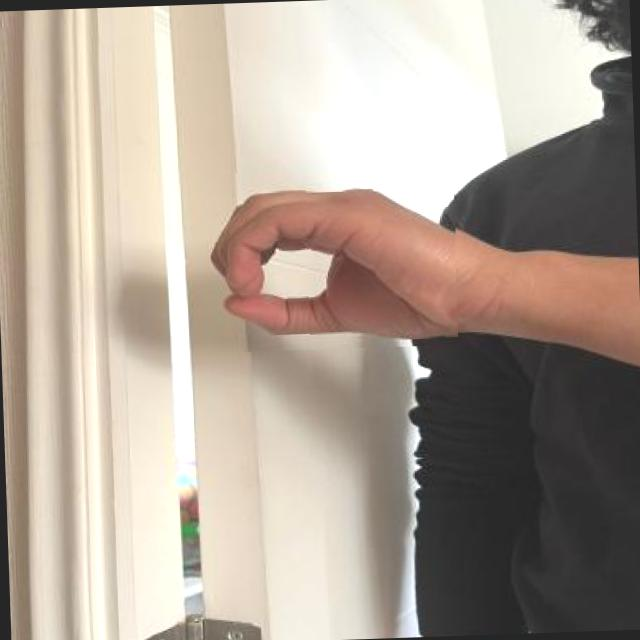O: (204, 165, 460, 353)
